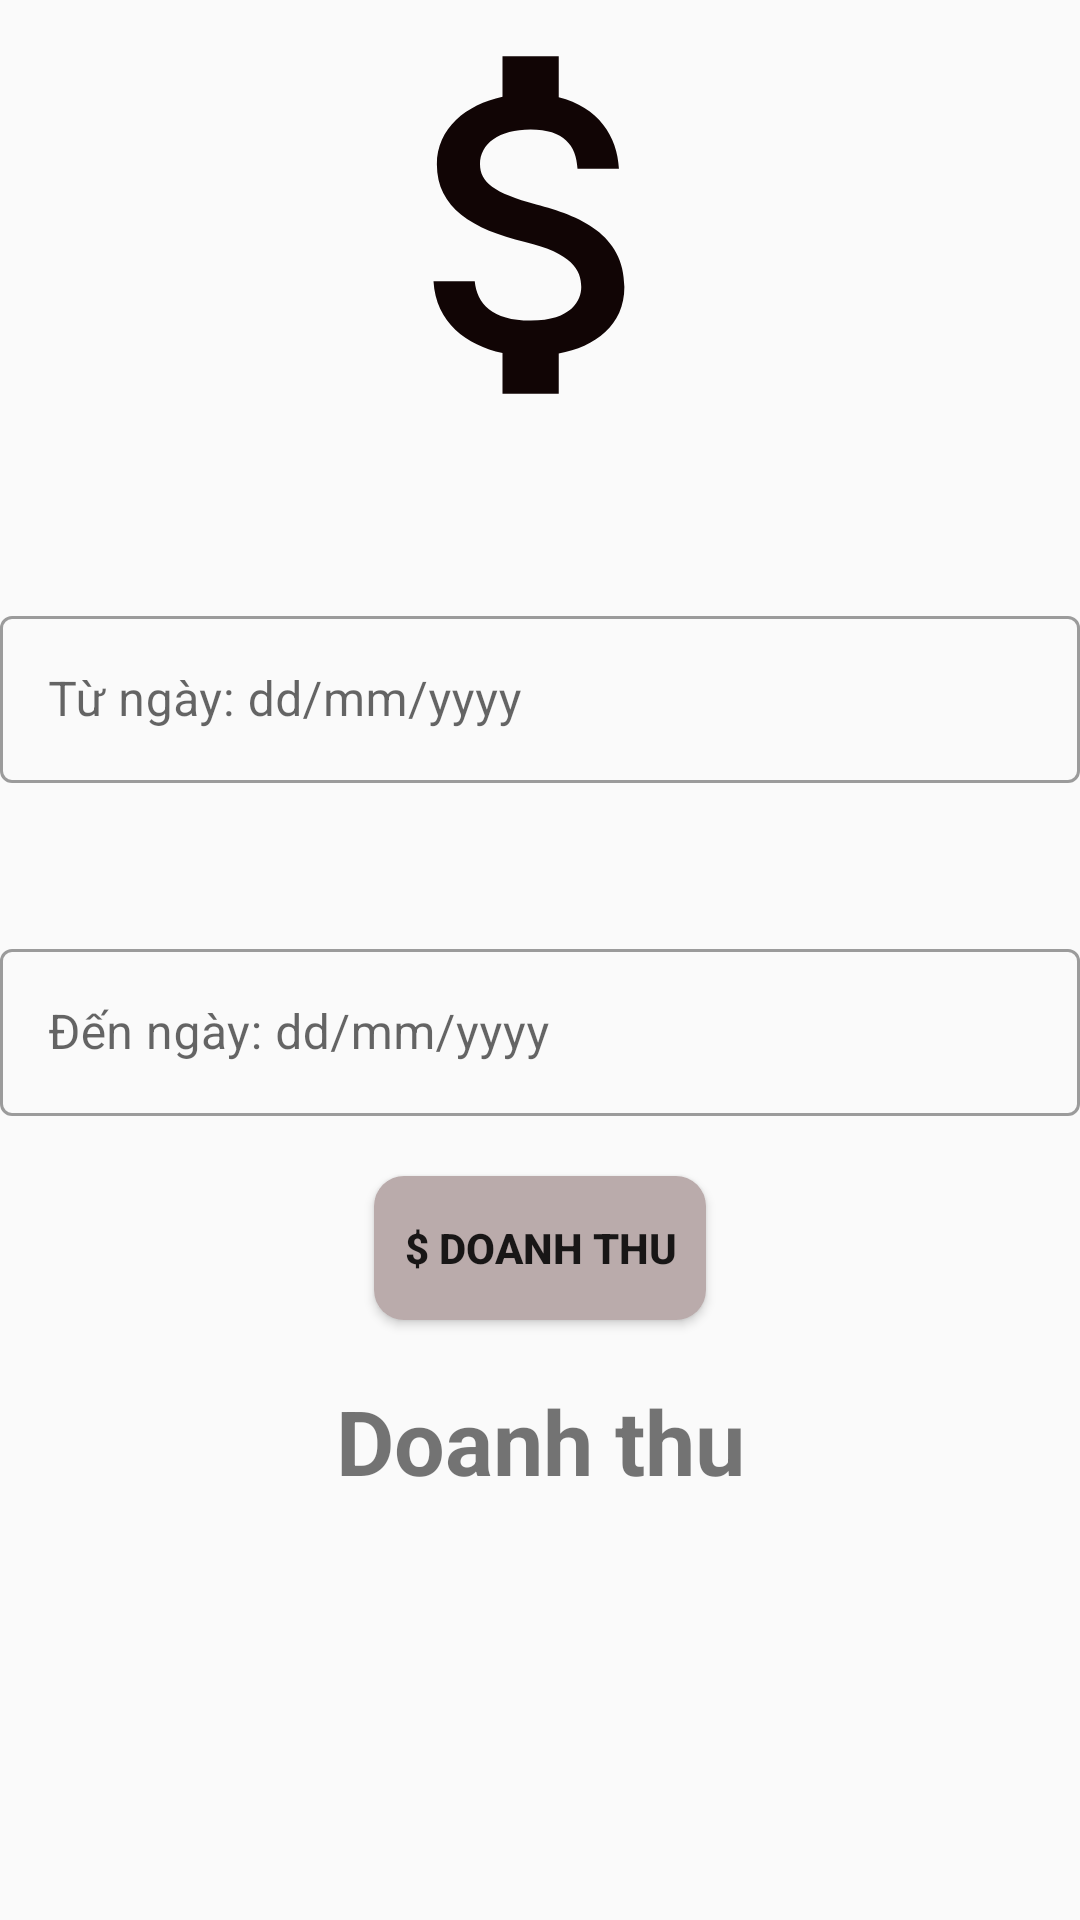

Screen size 1080*1920. Icon name, then its center in pixels as (x,y):
attach money: (529,225)
